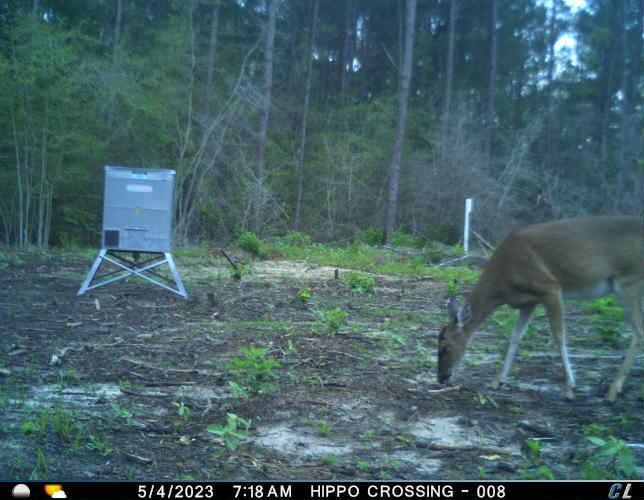Deer: (430, 211, 644, 408)
